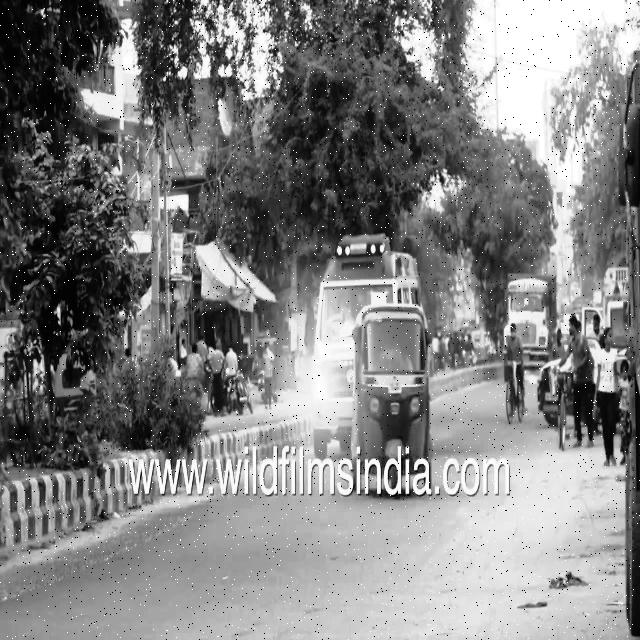Ambulance: (315, 246, 422, 439)
